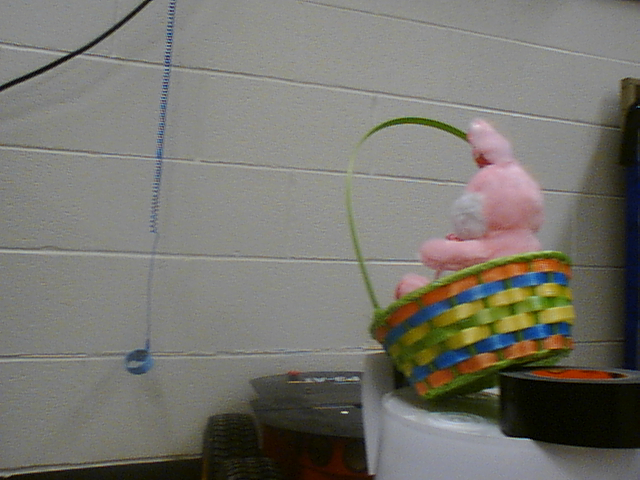bunny: (337, 105, 578, 400)
